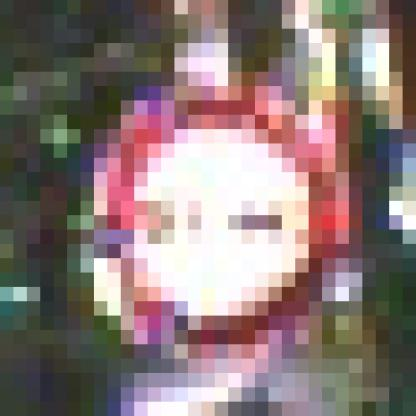No Overtaking: (81, 87, 350, 345)
